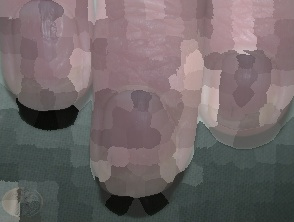Nail_psoriasis: (78, 67, 206, 209), (0, 0, 98, 123), (199, 36, 292, 150)
